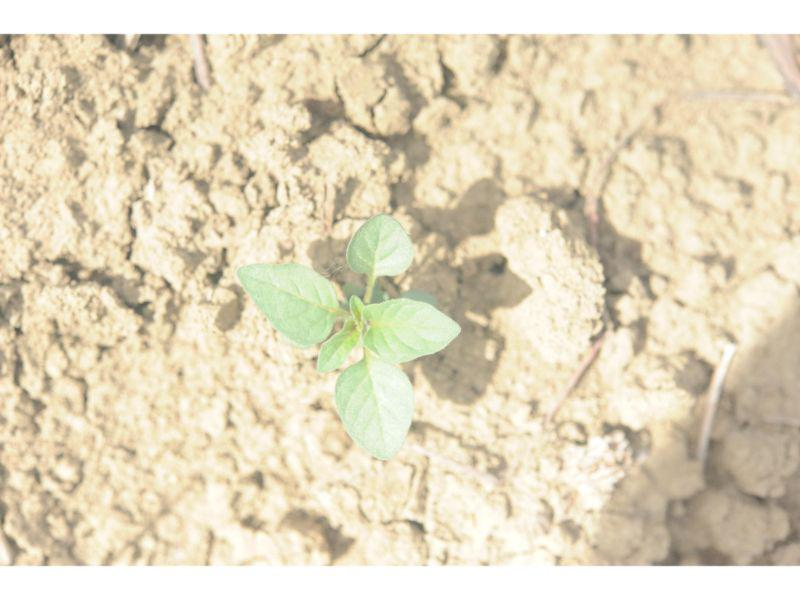nightshade: (238, 213, 461, 461)
